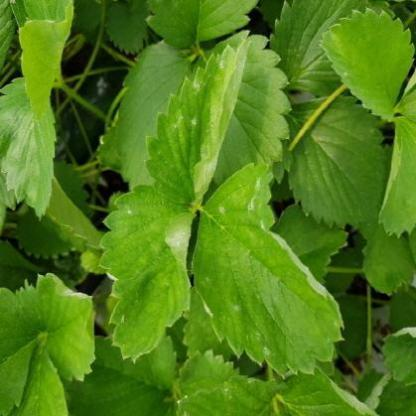Strawberry_Powdery_Mildew_Leaf: (190, 160, 346, 378), (96, 184, 197, 364), (144, 38, 250, 204)
